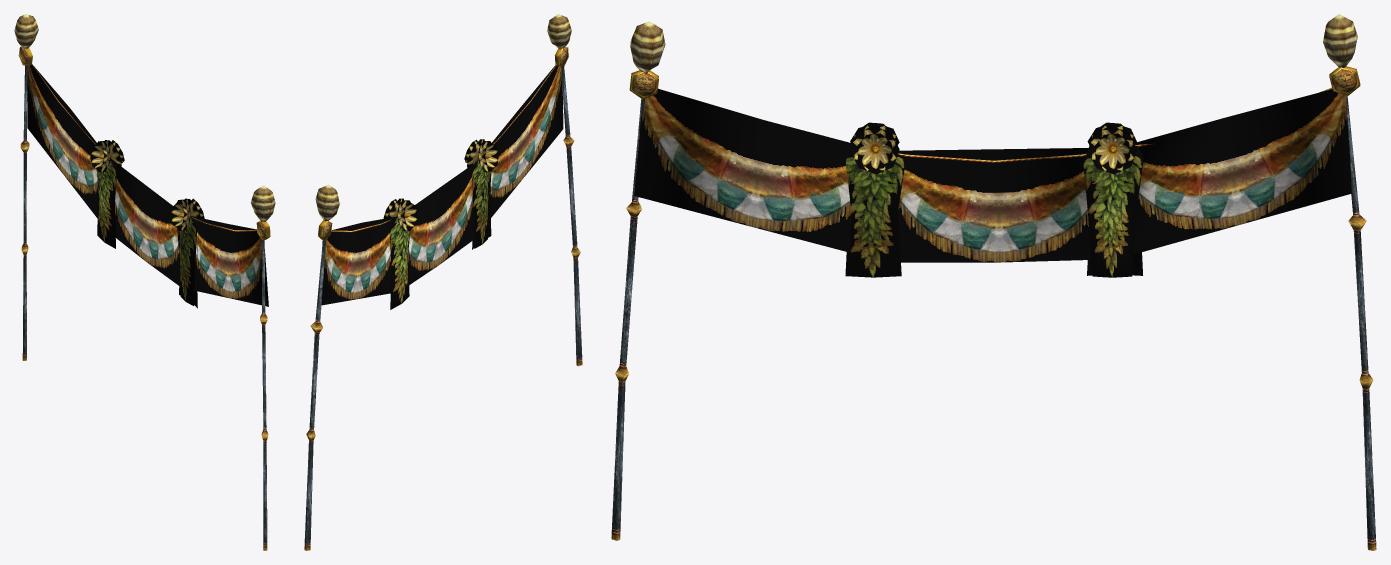
Rendered from OZ_40_mi_birth01A.glb.
3 views of the same model, side by side, from view 1: azimuth 30°, elevation 25°; view 2: azimuth 150°, elevation 25°; view 3: azimuth 270°, elevation 25° (orthographic). The views are drawn at different scales.
Visible parts, largest first — view 1: OM_40_mi_birth01A; view 2: OM_40_mi_birth01A; view 3: OM_40_mi_birth01A.
Part boxes in pixels (box(x1,y1,x2,y2)): OM_40_mi_birth01A: box(14, 14, 275, 550); OM_40_mi_birth01A: box(304, 14, 582, 550); OM_40_mi_birth01A: box(611, 14, 1376, 550).
Bounding box in the file's own units: 1.24 × 15.07 × 19.77.
Materials: 1 (1 with a texture image).
